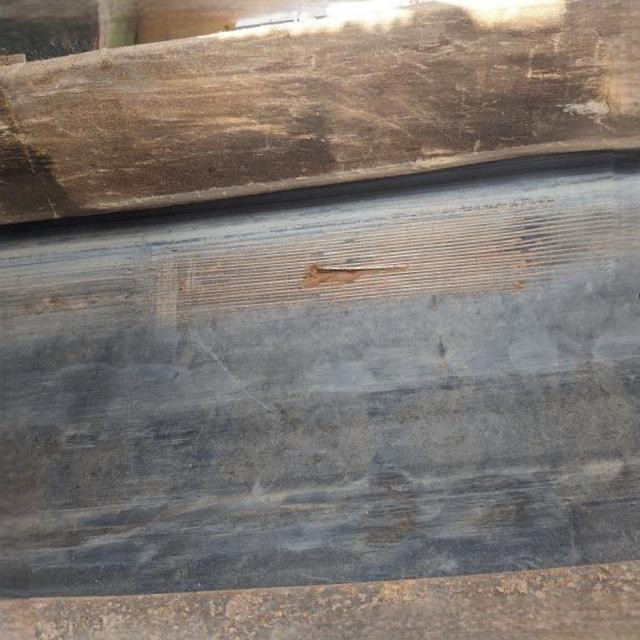Wear: (0, 188, 639, 330)
